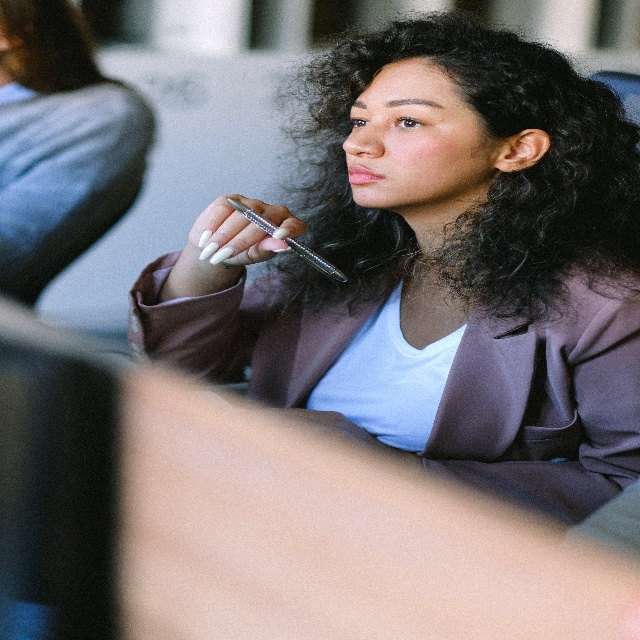Sin_guantes: (190, 186, 305, 270)
